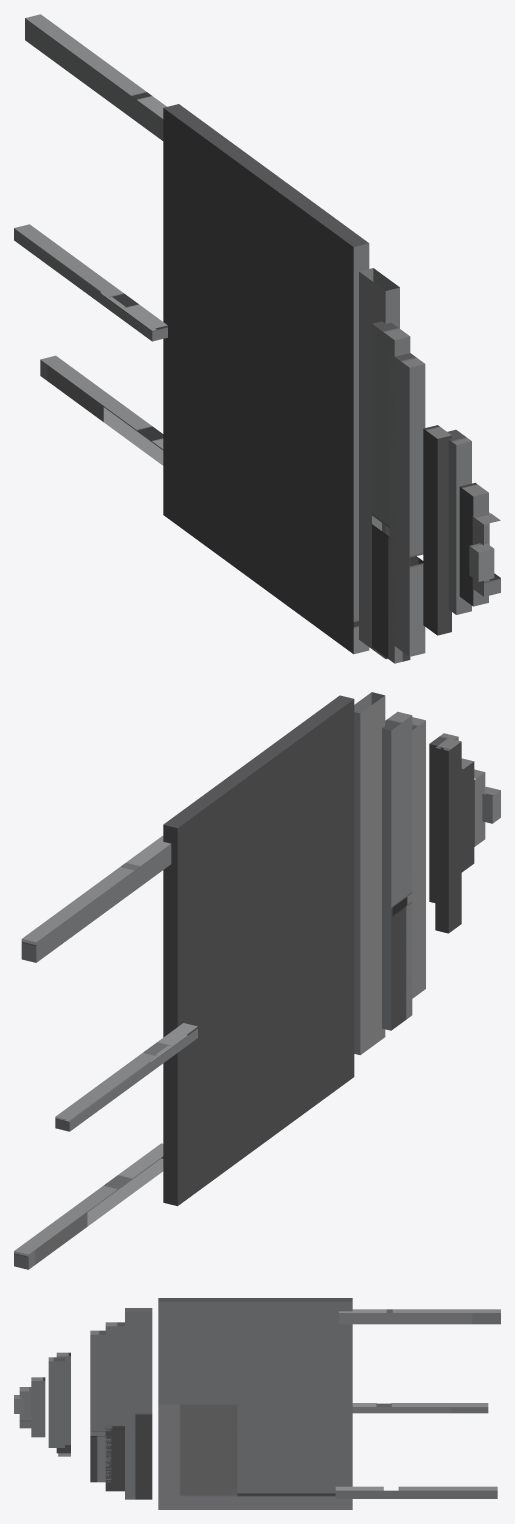
3 renders of one model, top to bottom at view 1: azimuth 30°, elevation 25°; view 2: azimuth 150°, elevation 25°; view 3: azimuth 270°, elevation 25°, orthographic. The views are drawn at different scales.
Size of the model in its own units: 0.13 by 0.9914 by 2.1.
